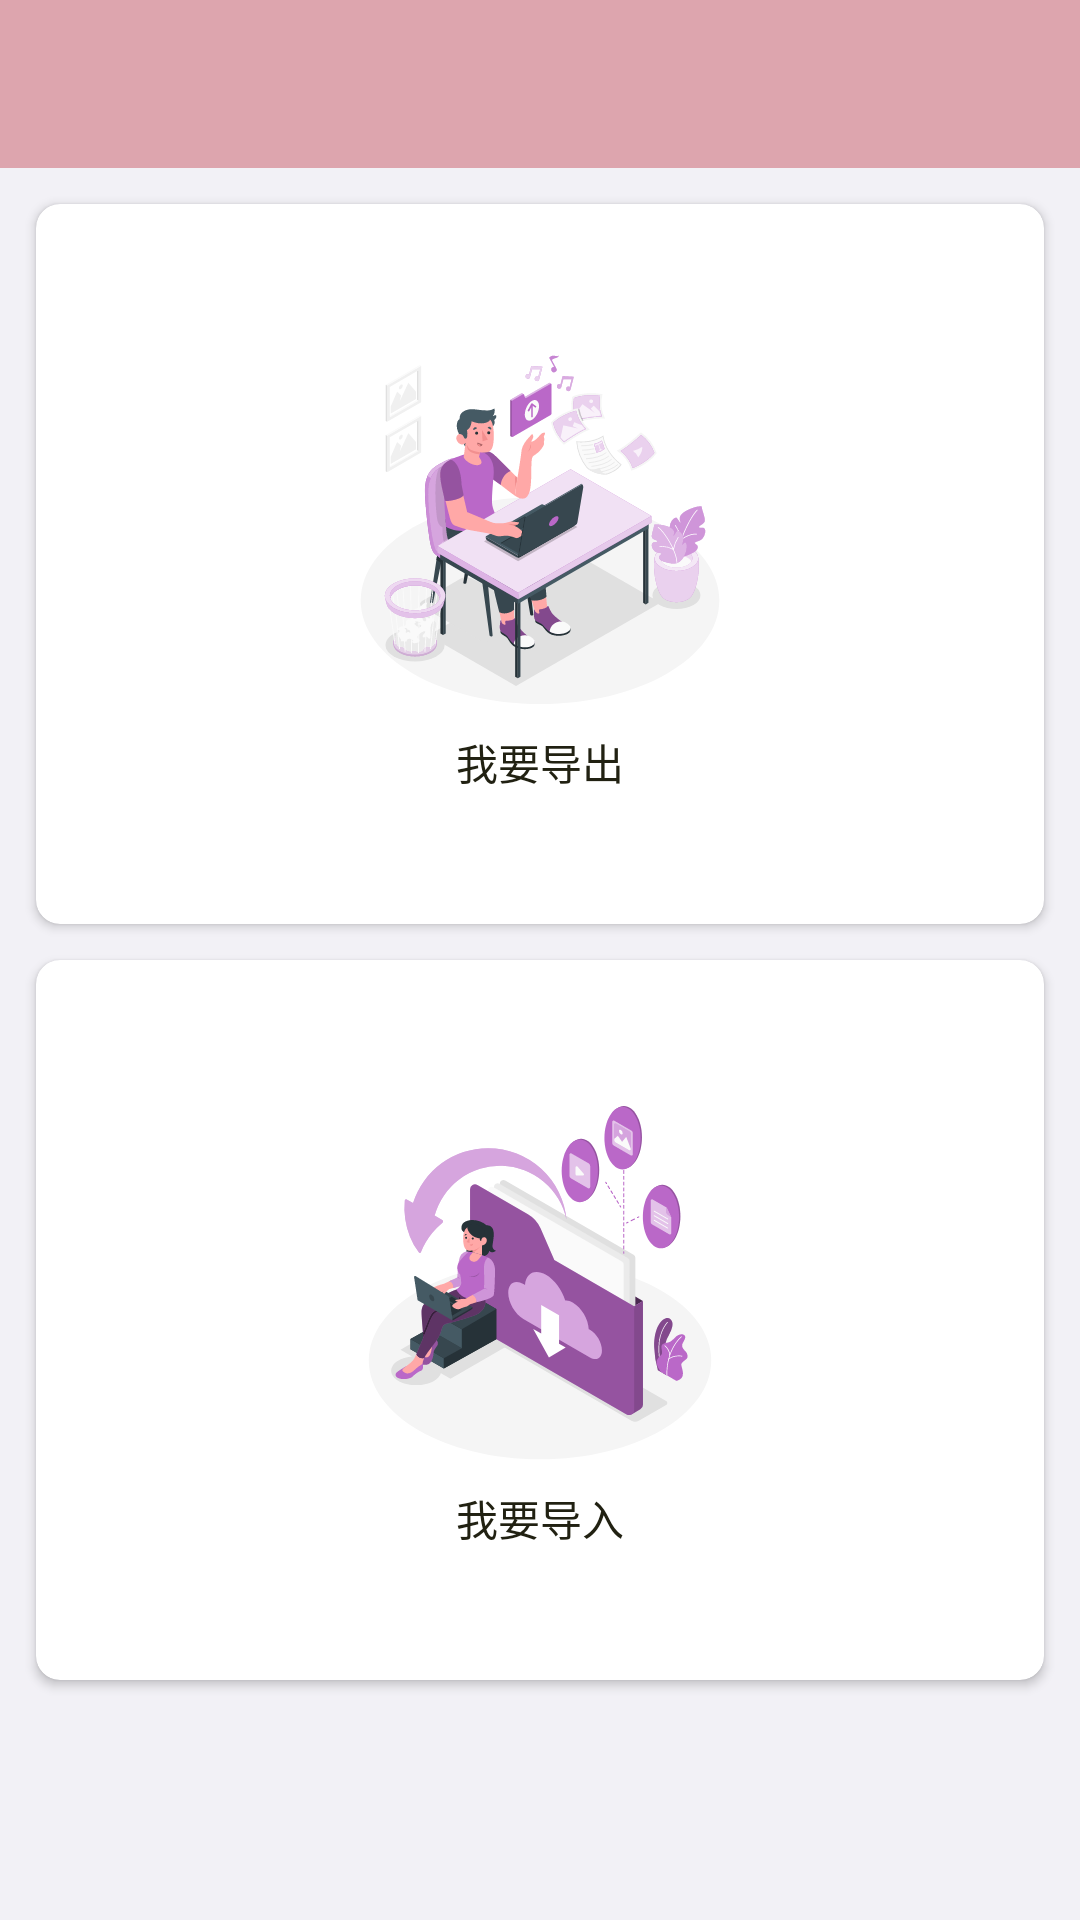

Icon bounding boxes for this 1080*1920 phone screenshot, format bbox=[x1, y1, x2, y2]:
download amico: bbox=[391, 1106, 688, 1422]
uploading amico: bbox=[384, 355, 706, 686]
